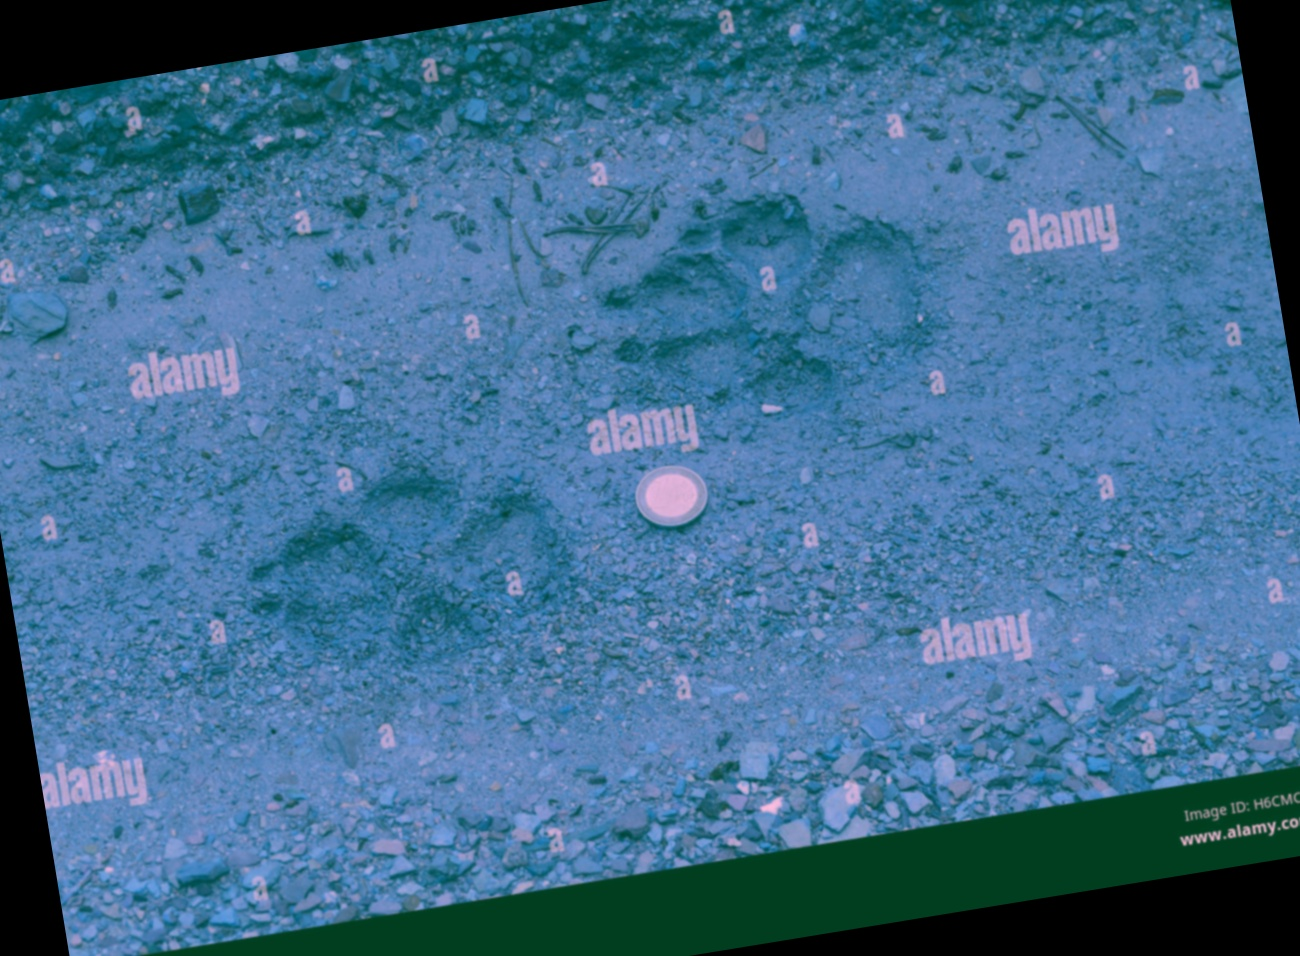loup: (207, 375, 575, 695), (619, 170, 984, 479)
